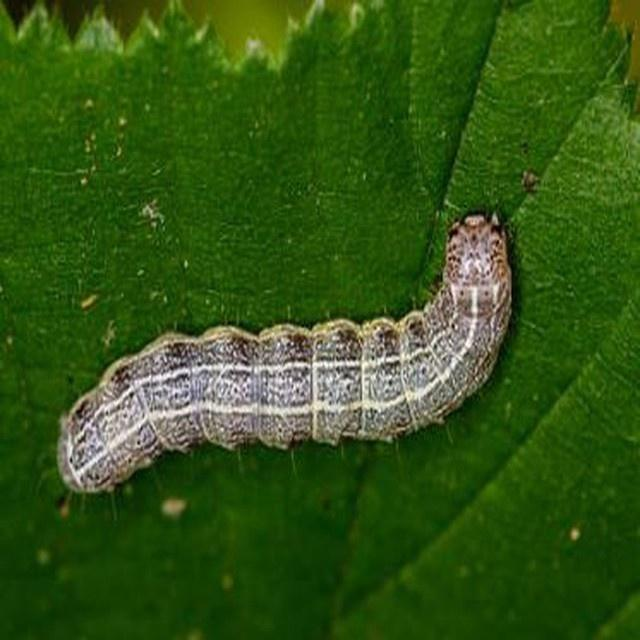gusano_cogollero: (44, 207, 515, 504)
